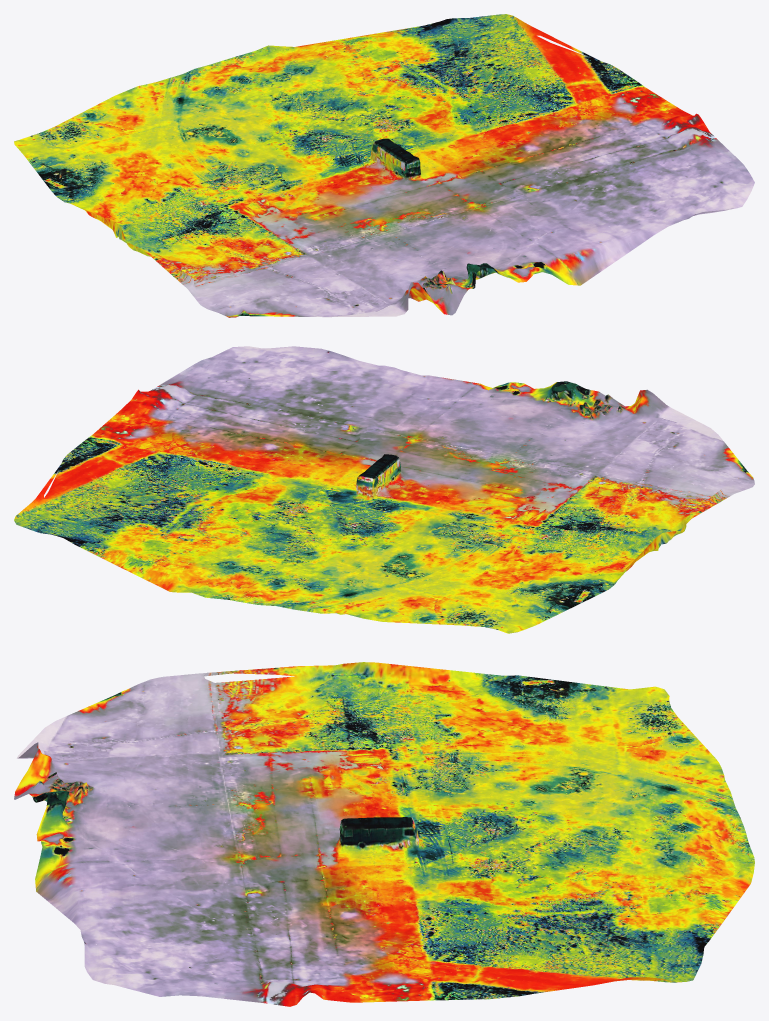
File: thermo_keisya.glb
3 renders of one model, top to bottom at view 1: azimuth 30°, elevation 25°; view 2: azimuth 150°, elevation 25°; view 3: azimuth 270°, elevation 25°, orthographic. The views are drawn at different scales.
Visible parts, largest first — view 1: DefaultName; view 2: DefaultName; view 3: DefaultName.
Part boxes in pixels (x1,y1,x2,y2): DefaultName: (14,14,754,317); DefaultName: (14,346,754,633); DefaultName: (14,662,754,1006).
Size of the model in its own units: 69.62 by 5.18 by 66.83.
1 material, 1 textured.
